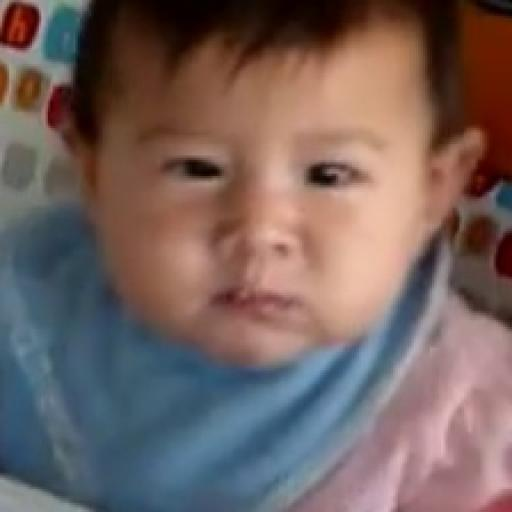Autism: (13, 11, 511, 512)
